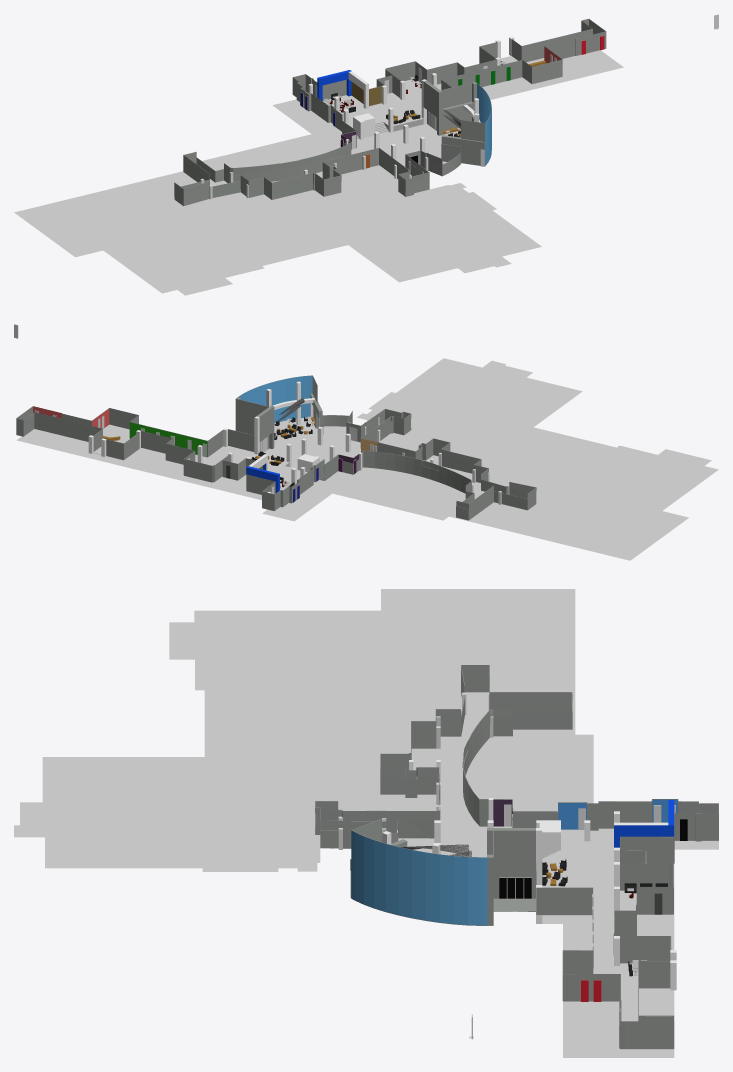
File: campus.glb
3 views of the same model, one above another, from view 1: azimuth 30°, elevation 25°; view 2: azimuth 150°, elevation 25°; view 3: azimuth 270°, elevation 25° (orthographic). The views are drawn at different scales.
Parts seen in each view (by area): view 1: BASE-FLOOR, LOWER WALLS, UPPER WALLS, ATRIUM, UPPER FLOOR, Plane.007, ATRIUM WINDOW; view 2: BASE-FLOOR, UPPER WALLS, LOWER WALLS, ATRIUM WINDOW, UPPER FLOOR, ATRIUM, Plane.007, WALLS.001, Plane.025; view 3: BASE-FLOOR, UPPER WALLS, LOWER WALLS, ATRIUM WINDOW, UPPER FLOOR, Plane.007, ATRIUM, Plane.014.
Boxes of the visible parts, x1,y1,x2,y2 form: BASE-FLOOR: (14, 50, 623, 295); LOWER WALLS: (174, 82, 489, 206); UPPER WALLS: (292, 18, 606, 131); ATRIUM: (427, 82, 491, 176); UPPER FLOOR: (293, 48, 605, 131); Plane.007: (423, 80, 476, 135); ATRIUM WINDOW: (477, 83, 491, 165); BASE-FLOOR: (16, 358, 718, 560); UPPER WALLS: (16, 406, 324, 510); LOWER WALLS: (236, 398, 536, 520); ATRIUM WINDOW: (238, 375, 312, 422); UPPER FLOOR: (17, 424, 323, 511); ATRIUM: (235, 375, 348, 451); Plane.007: (236, 397, 274, 448); WALLS.001: (228, 429, 254, 451); Plane.025: (266, 381, 314, 424); BASE-FLOOR: (14, 589, 718, 1057); UPPER WALLS: (536, 799, 718, 1048); LOWER WALLS: (315, 665, 572, 925); ATRIUM WINDOW: (351, 830, 487, 925); UPPER FLOOR: (542, 828, 718, 1049); Plane.007: (487, 828, 535, 925); ATRIUM: (351, 819, 536, 898); Plane.014: (614, 822, 668, 847).
Bounding box in the file's own units: 149 × 12.38 × 85.39.
Materials: 30 (1 with a texture image).
